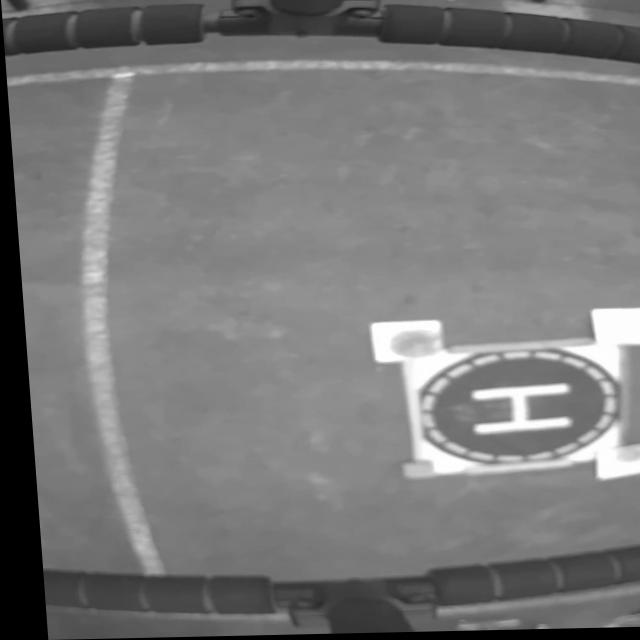Helipad: (464, 386, 566, 437)
